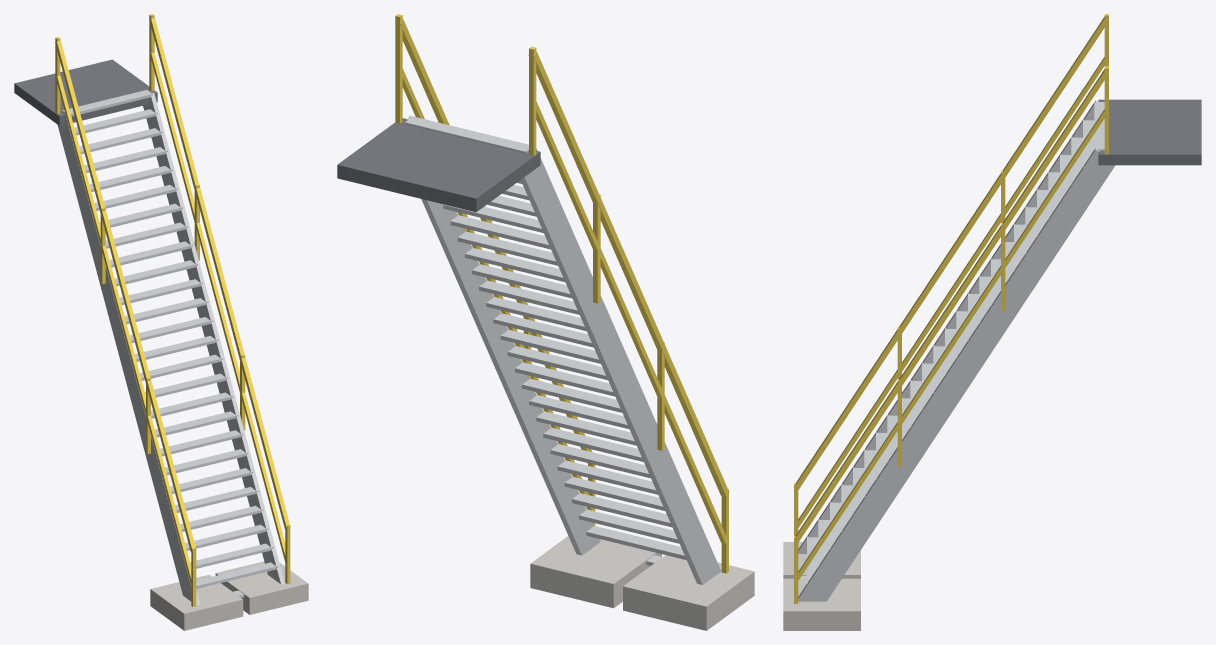
Rendered from rocket-launch-pad-and-gantry-gantry-stair-flight-b9112f2e__38174.glb.
3 renders of one model, left to right at view 1: azimuth 30°, elevation 25°; view 2: azimuth 150°, elevation 25°; view 3: azimuth 270°, elevation 25°, orthographic. The views are drawn at different scales.
Visible parts, largest first — view 1: gantry-stair-flight; view 2: gantry-stair-flight; view 3: gantry-stair-flight.
Part boxes in pixels (x1=…): gantry-stair-flight: x1=14, y1=14, x2=308, y2=630; gantry-stair-flight: x1=337, y1=14, x2=754, y2=630; gantry-stair-flight: x1=783, y1=14, x2=1201, y2=630.
Size of the model in its own units: 1.9 by 7.23 by 4.85.
